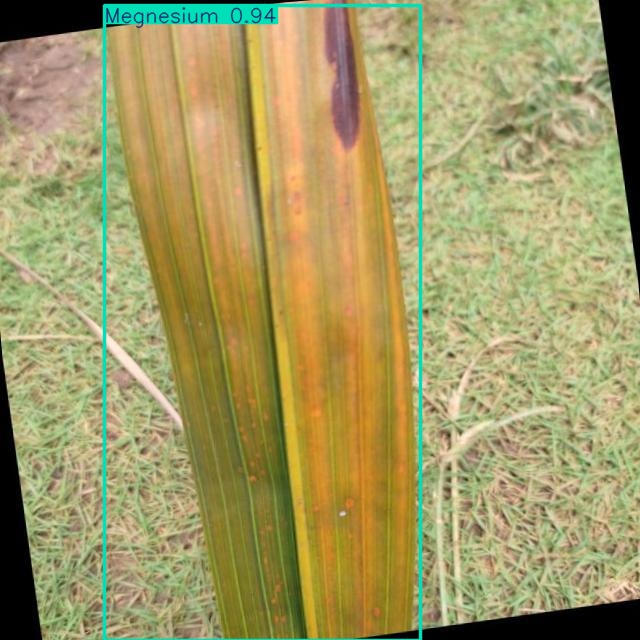Megnesium: (105, 5, 421, 640)
